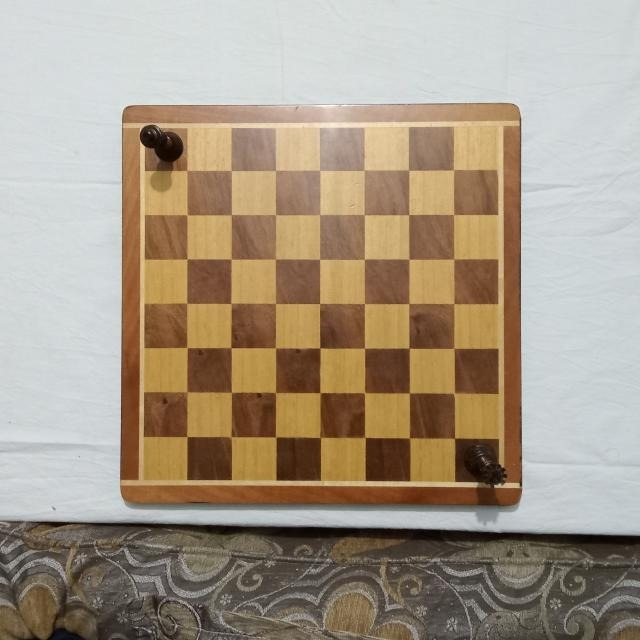black-king: (138, 121, 186, 162)
black-queen: (463, 443, 509, 488)
